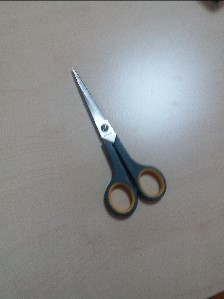scissors: (70, 69, 167, 218)
